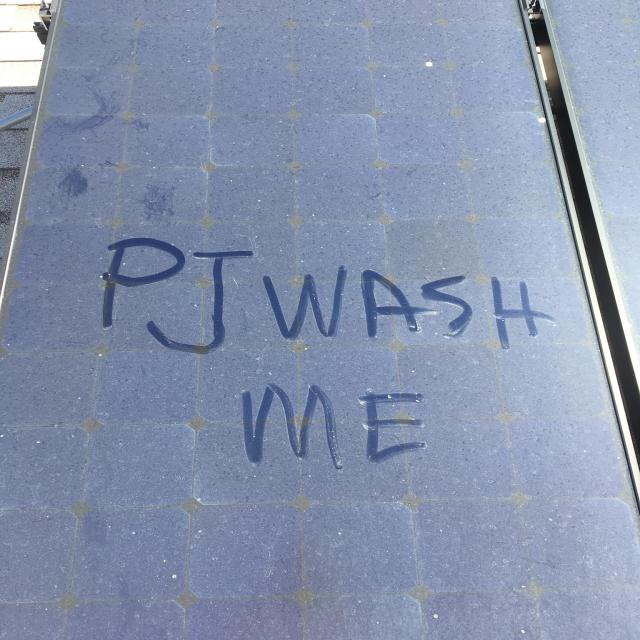dust-solar-panel: (2, 0, 640, 640)
